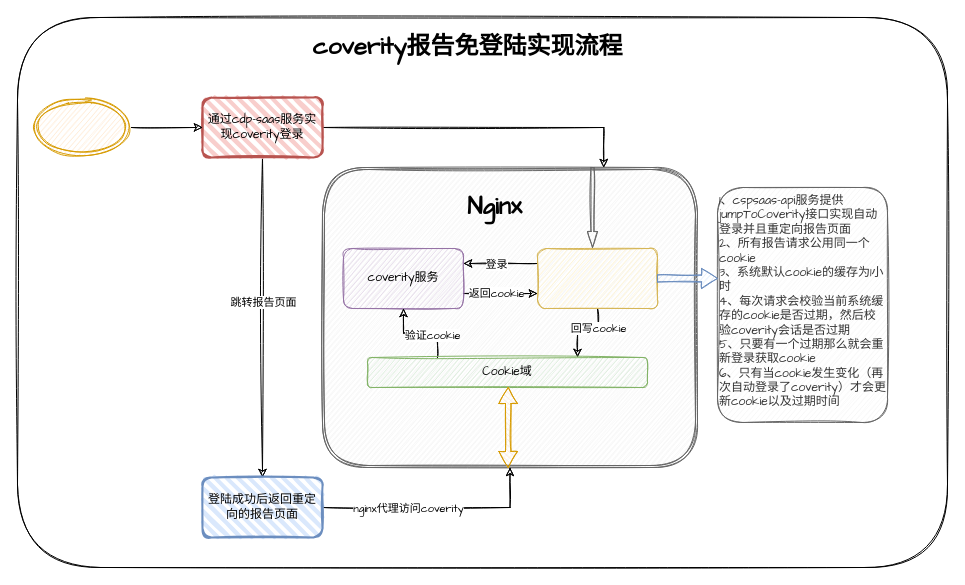
Image size: 965x585. Some labels were removed from this diagram. Each missing label, with the centre of its shape:
"cspsaas-api服务" belongs at pixel 597 278.
"代理cookie" belongs at pixel 508 427.
"开始" belongs at pixel 81 127.
